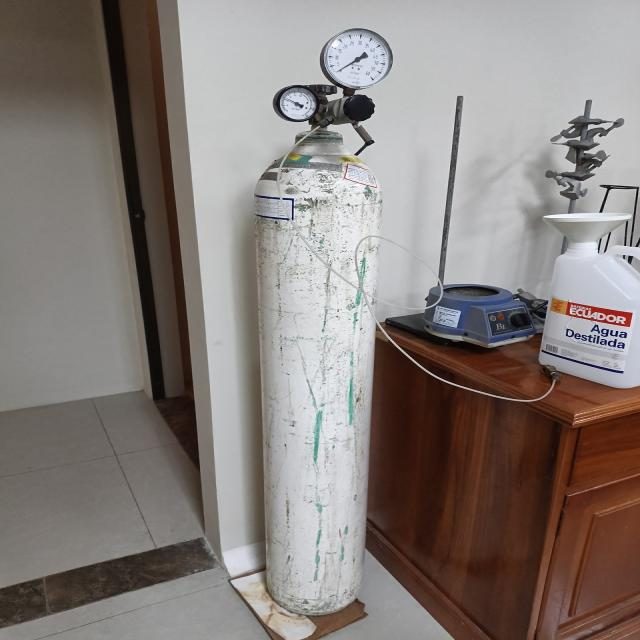Agitador de Tubos - Mezclador Vortex: (212, 29, 394, 640)
